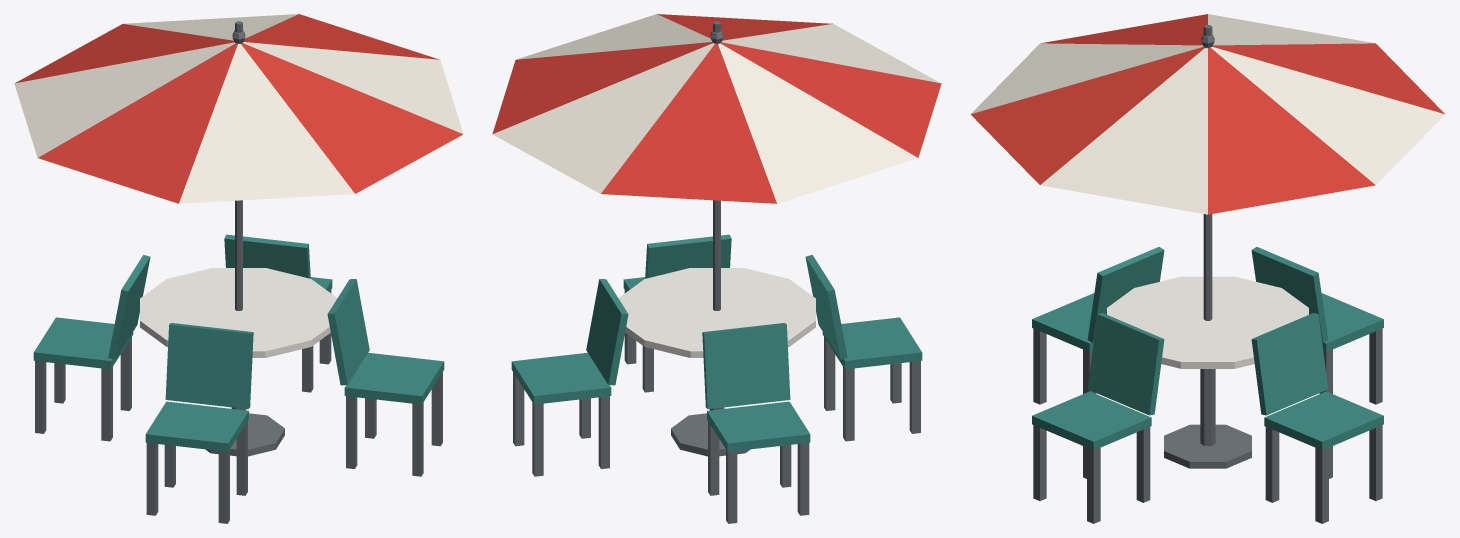
The model's file is prop_patio_set.glb.
3 views of the same model, side by side, from view 1: azimuth 30°, elevation 25°; view 2: azimuth 150°, elevation 25°; view 3: azimuth 270°, elevation 25° (orthographic). The views are drawn at different scales.
Parts seen in each view (by area): view 1: prop_patio_set; view 2: prop_patio_set; view 3: prop_patio_set.
Boxes of the visible parts, x1,y1,x2,y2 form: prop_patio_set: (14,14,463,523); prop_patio_set: (492,14,941,523); prop_patio_set: (970,14,1445,523).
Size of the model in its own units: 2.5 by 2.46 by 2.5.
